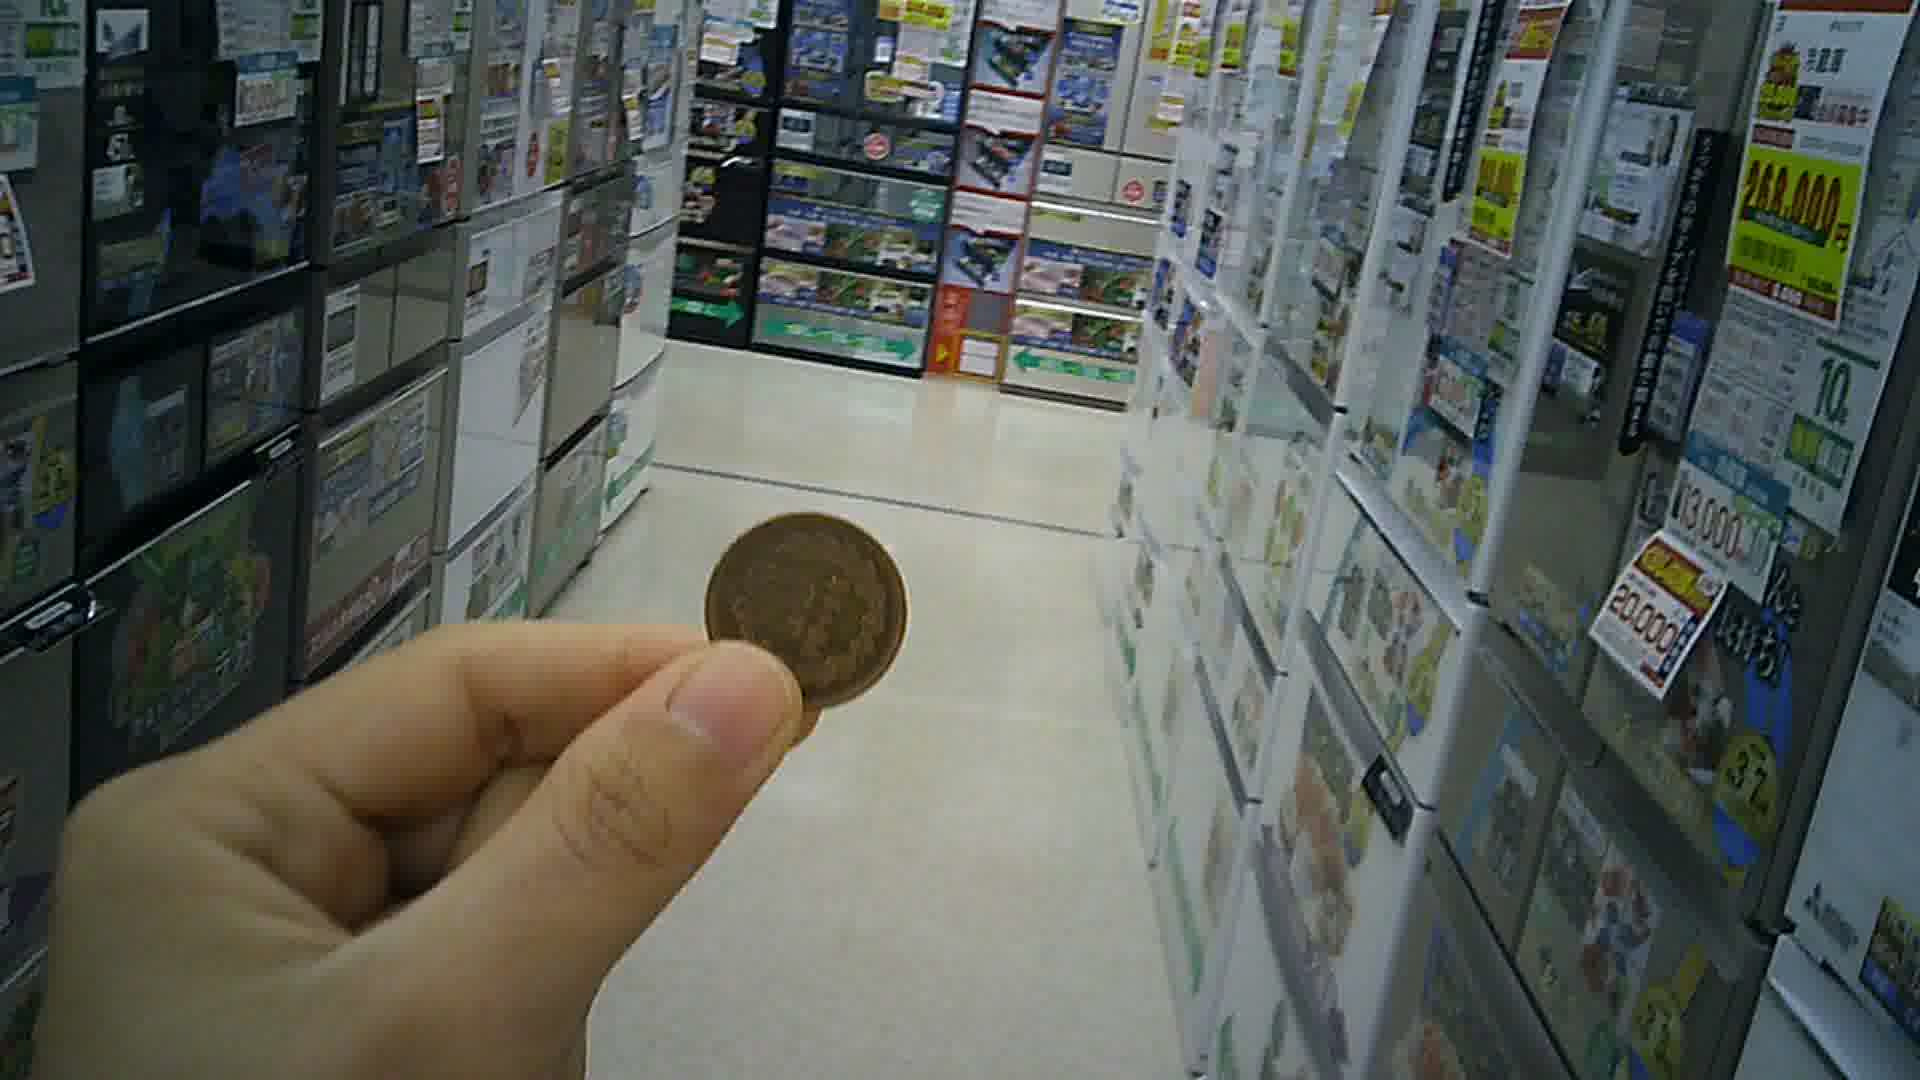10 Yen: (700, 502, 910, 716)
